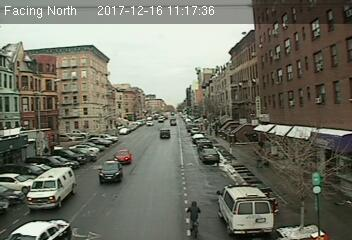bicycle: (186, 199, 203, 237)
car: (98, 161, 121, 185), (113, 149, 132, 164), (200, 148, 219, 163), (158, 128, 171, 138)
police: (215, 181, 274, 235)
truck: (23, 167, 76, 211)
